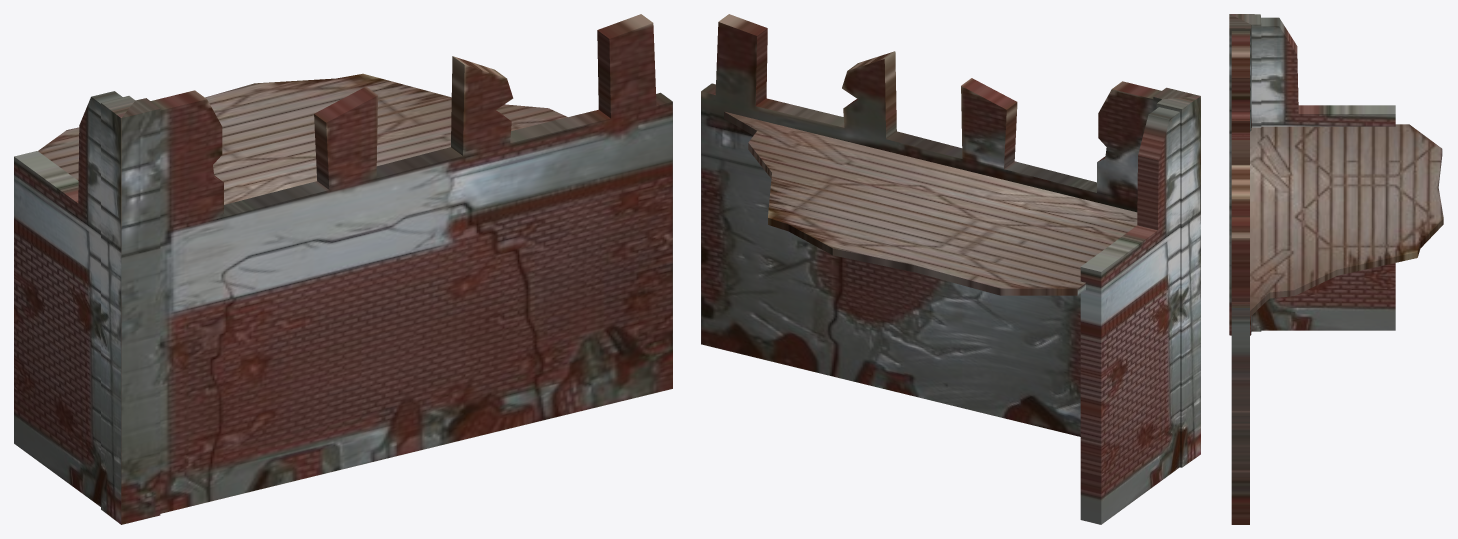
The model's file is marvel-ruin-6-textured.glb.
3 views of the same model, side by side, from view 1: azimuth 30°, elevation 25°; view 2: azimuth 150°, elevation 25°; view 3: azimuth 270°, elevation 25° (orthographic). The views are drawn at different scales.
Visible parts, largest first — view 1: MarvelRuinFront, MarvelRuinLeft, MarvelRuinUpperFloor, MarvelRuinFrontBroken; view 2: MarvelRuinBack, MarvelRuinLeft, MarvelRuinUpperFloor, MarvelRuinBackBroken, MarvelRuinFront; view 3: MarvelRuinUpperFloor, MarvelRuinLeft, MarvelRuinFront.
Part boxes in pixels (x1,y1,x2,y2): MarvelRuinFront: [121, 14, 672, 524]; MarvelRuinLeft: [14, 91, 135, 524]; MarvelRuinUpperFloor: [38, 73, 567, 204]; MarvelRuinFrontBroken: [138, 99, 672, 513]; MarvelRuinBack: [701, 22, 1161, 436]; MarvelRuinLeft: [1077, 96, 1200, 524]; MarvelRuinUpperFloor: [724, 111, 1137, 295]; MarvelRuinBackBroken: [701, 139, 1098, 370]; MarvelRuinFront: [701, 14, 1199, 192]; MarvelRuinUpperFloor: [1250, 124, 1443, 316]; MarvelRuinLeft: [1230, 14, 1395, 331]; MarvelRuinFront: [1229, 14, 1251, 524].
Size of the model in its own units: 5.95 by 4.18 by 2.65.
4 materials, 4 textured.
